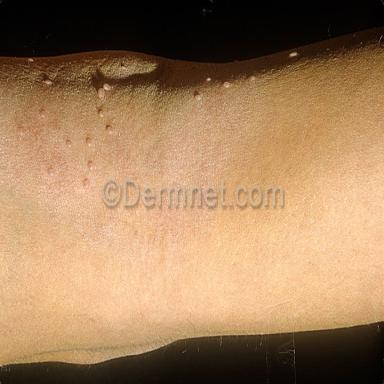Molluscum-Contagiosum: (98, 83, 111, 100), (106, 125, 114, 136), (223, 81, 231, 89), (86, 138, 93, 147), (84, 178, 90, 188), (88, 161, 93, 171), (66, 140, 72, 148), (195, 94, 201, 102), (41, 110, 45, 119), (250, 76, 256, 82), (45, 80, 52, 85), (99, 110, 103, 118)
